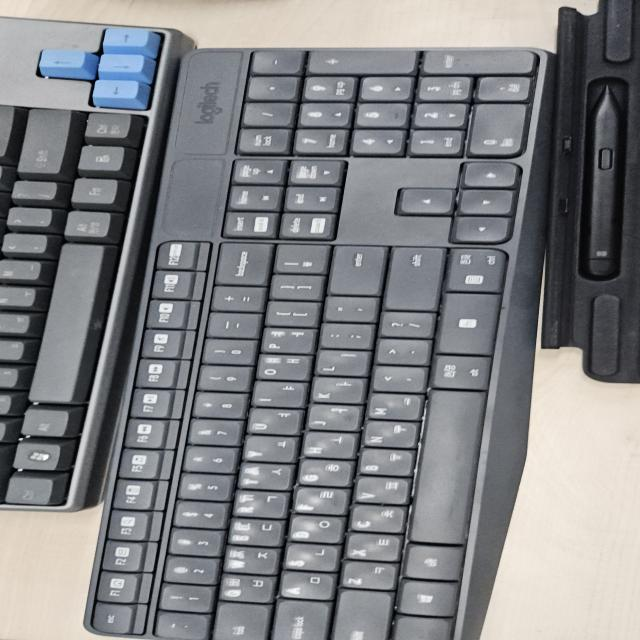Keyboard: (94, 46, 532, 640)
